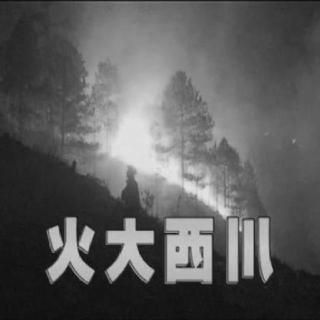Fire: (107, 102, 164, 176)
